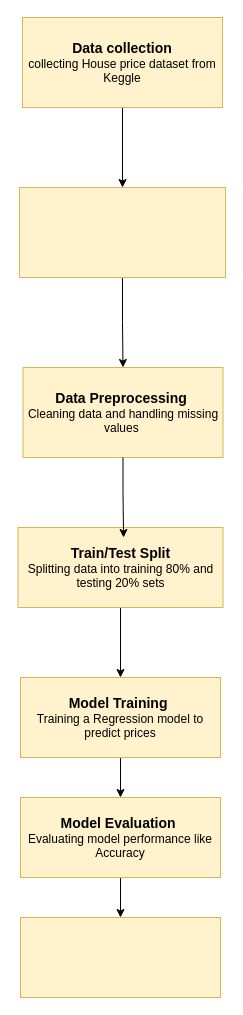
The diagram is 243 pixels wide and 1015 high, and some of its shapes have lost their labels. The shapes that lost their labels are listed below. From the top down, each one's centre as x and y in pixels, then its label:
At (x=122, y=232): "Data Loading Loading CSV file using Pandes in Jupyter Notebook".
At (x=120, y=957): "Results Final price predictions".
